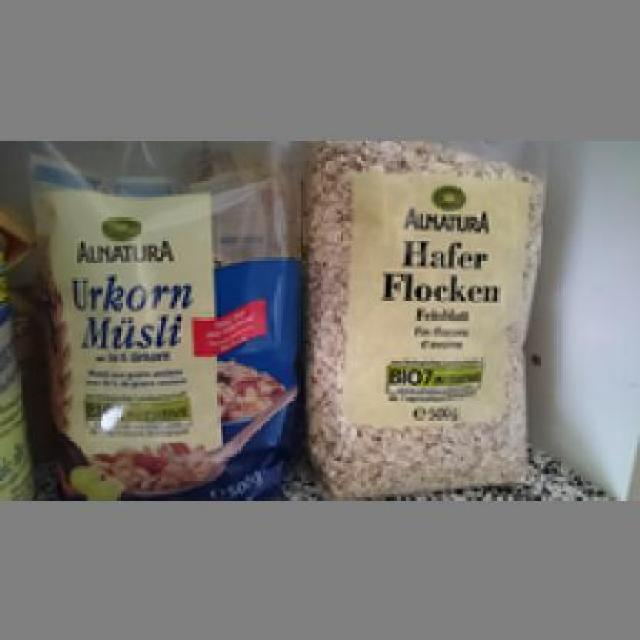Cereal: (299, 140, 552, 497), (40, 157, 297, 494)
